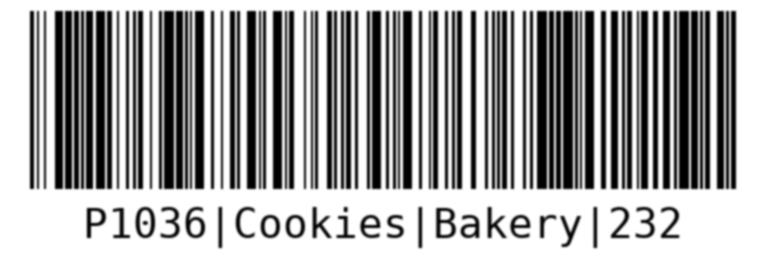milk: (23, 4, 747, 250)
